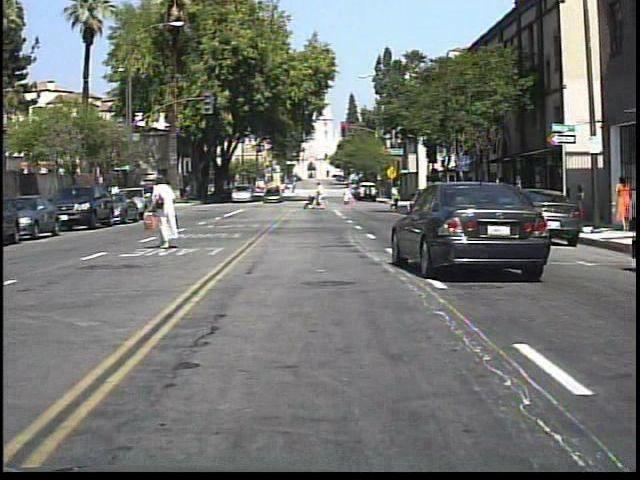person: (143, 169, 187, 257), (615, 166, 636, 235), (492, 170, 512, 220), (387, 182, 403, 212), (315, 181, 329, 210)
